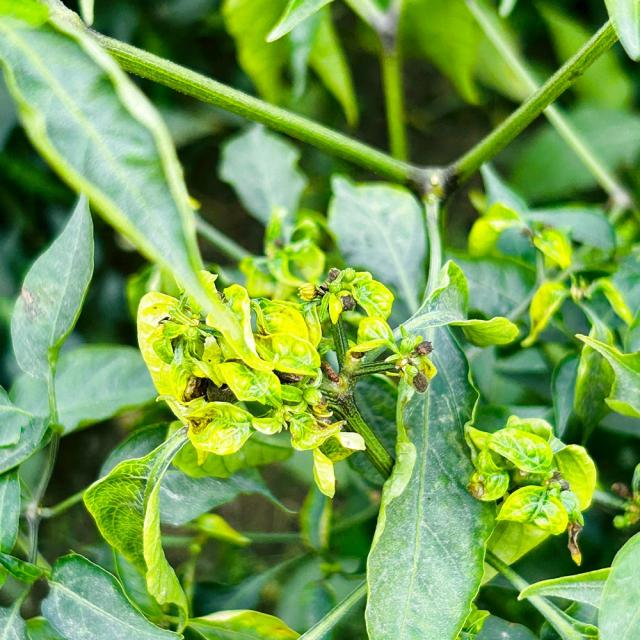Chilli_Leaf_Curl: (1, 1, 638, 638), (1, 0, 223, 325), (363, 258, 520, 638), (135, 268, 367, 496), (81, 422, 192, 630), (463, 413, 597, 566), (298, 266, 394, 325)
